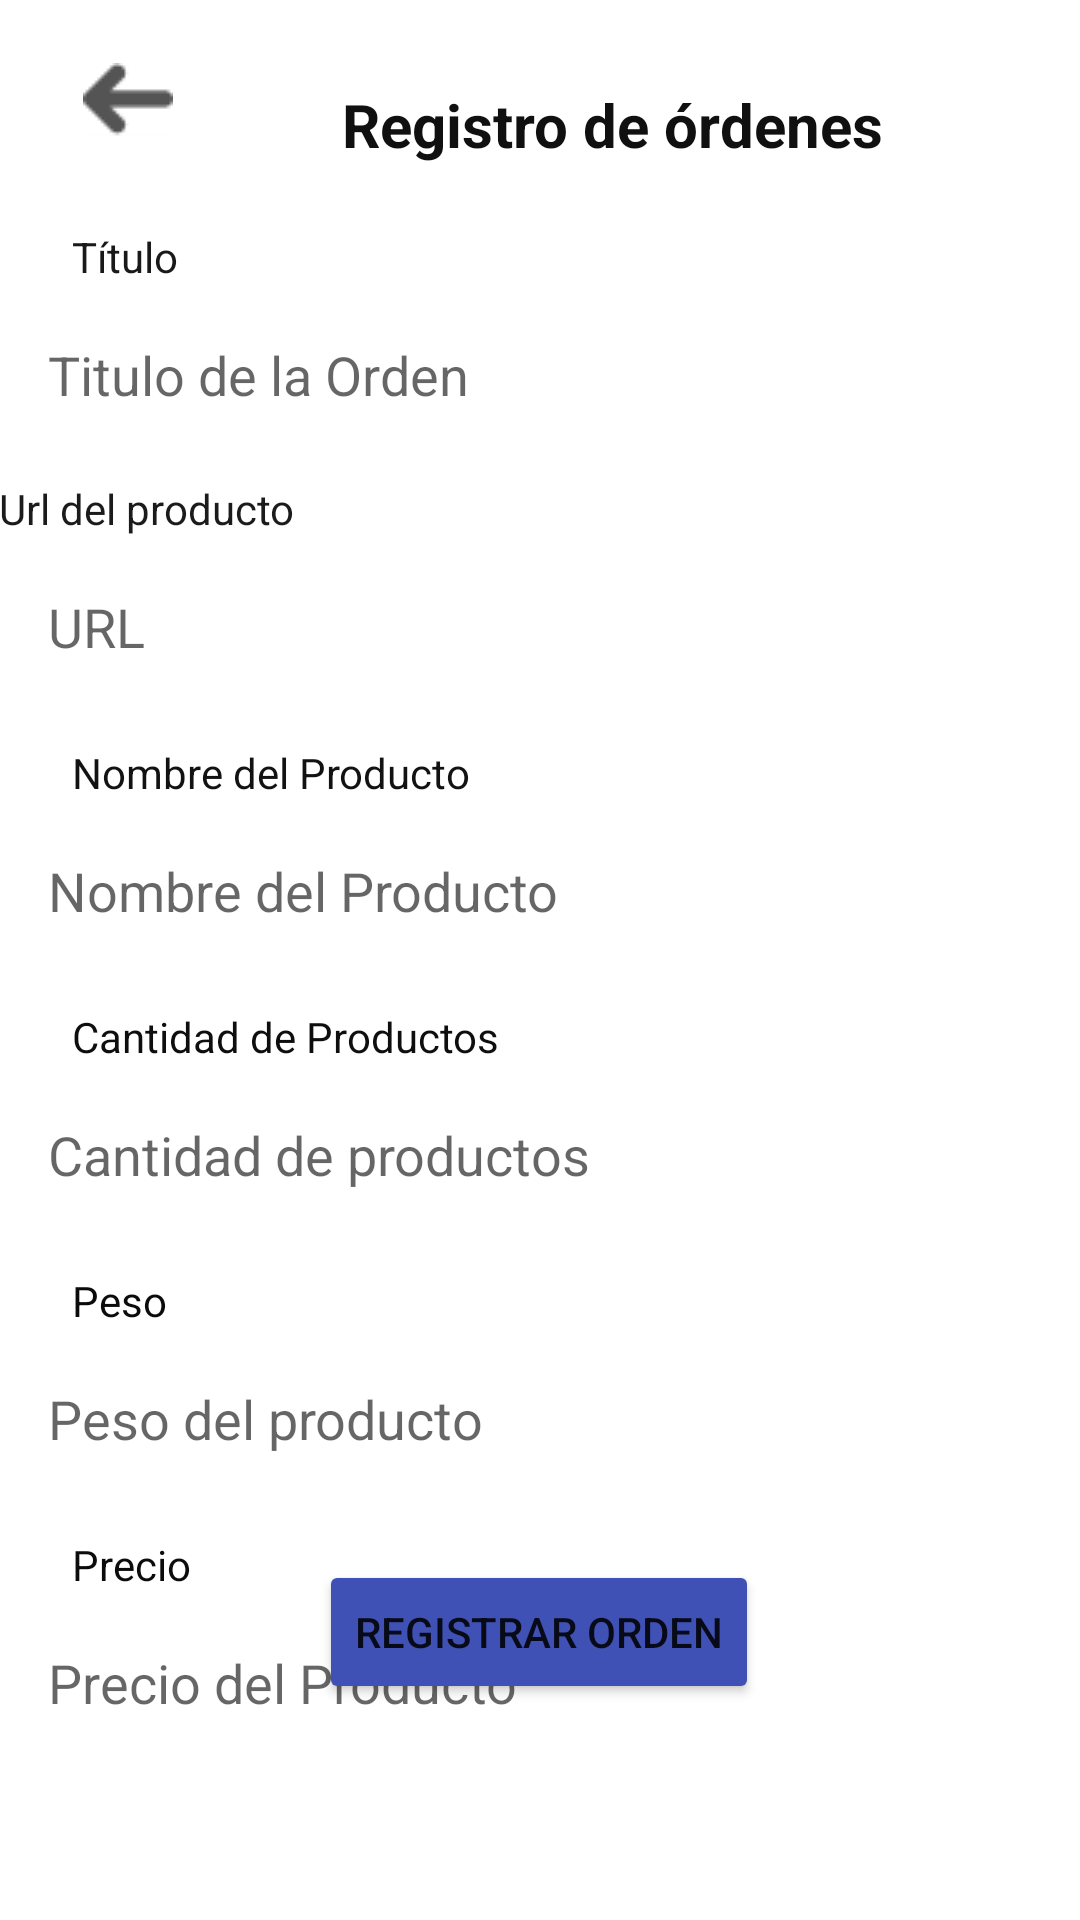

Point at icon controls on the screen. Image size 1080px×1920px, points as [x,y].
flecha: [128,99]
